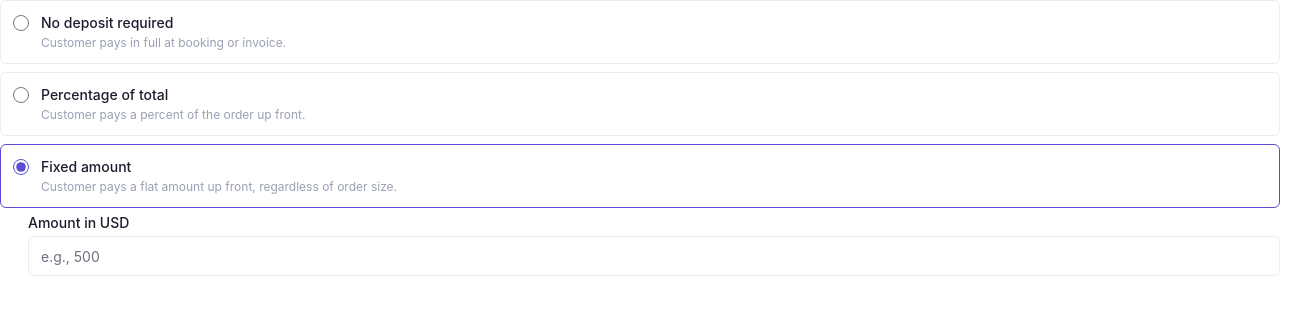
Test: DepositPolicyEditor — Decision 3 validation › Fixed: rejects negative -50 with inline error
Type "-50" into the field labelled "Amount in USD" at (654, 256), box [28,236,1280,276]
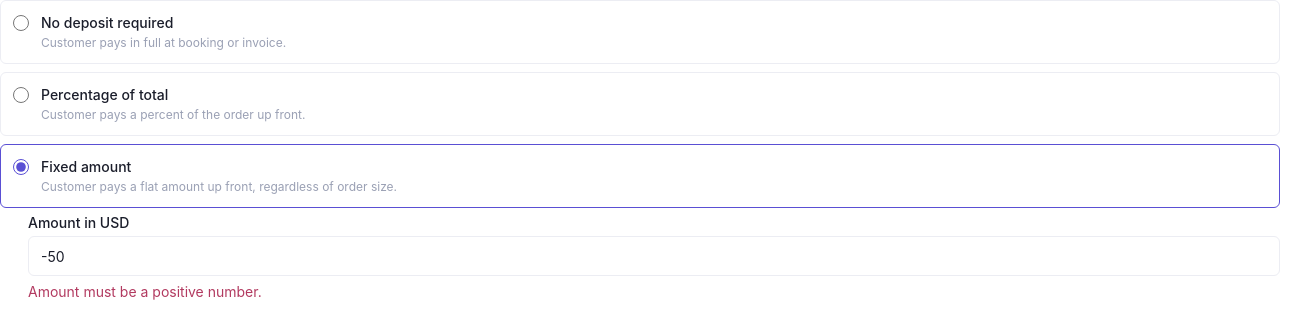
expect the message "Amount must be a positive number." is shown: met, box [28,283,262,300]
